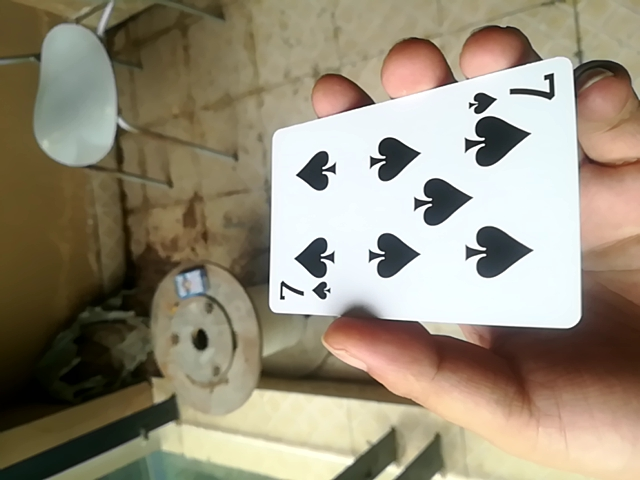ht 7: (263, 53, 590, 336)
